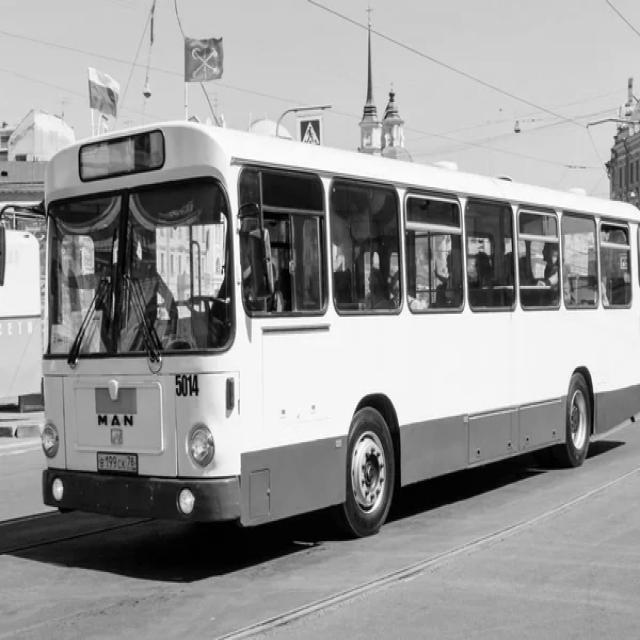Bus: (41, 122, 640, 535)
